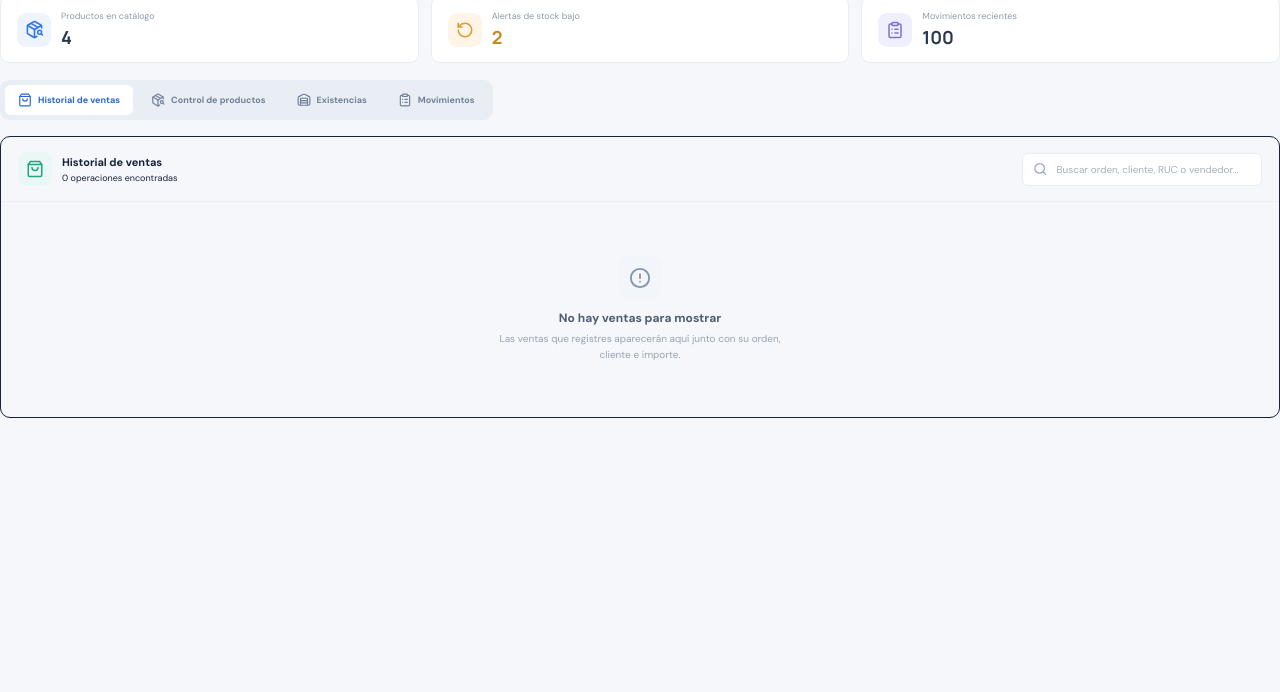
InventoryPage product control › permite cargar páginas anteriores del historial de movimientos
The width and height of the screenshot is (1280, 692).
Click the tab "Control de productos": (208, 100) x1=138 y1=85 x2=278 y2=115
(page scrolled)
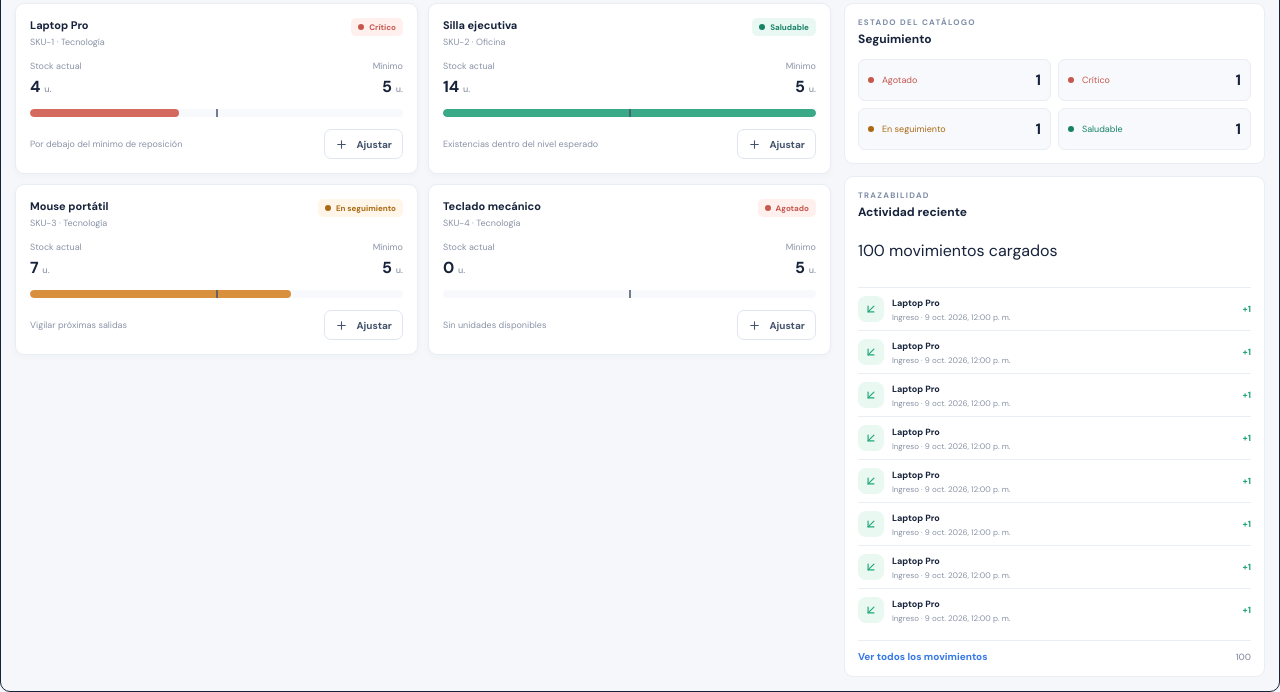
Click the button "Ver todos los movimientos 100": (923, 657) x1=858 y1=640 x2=1251 y2=663
(page scrolled)
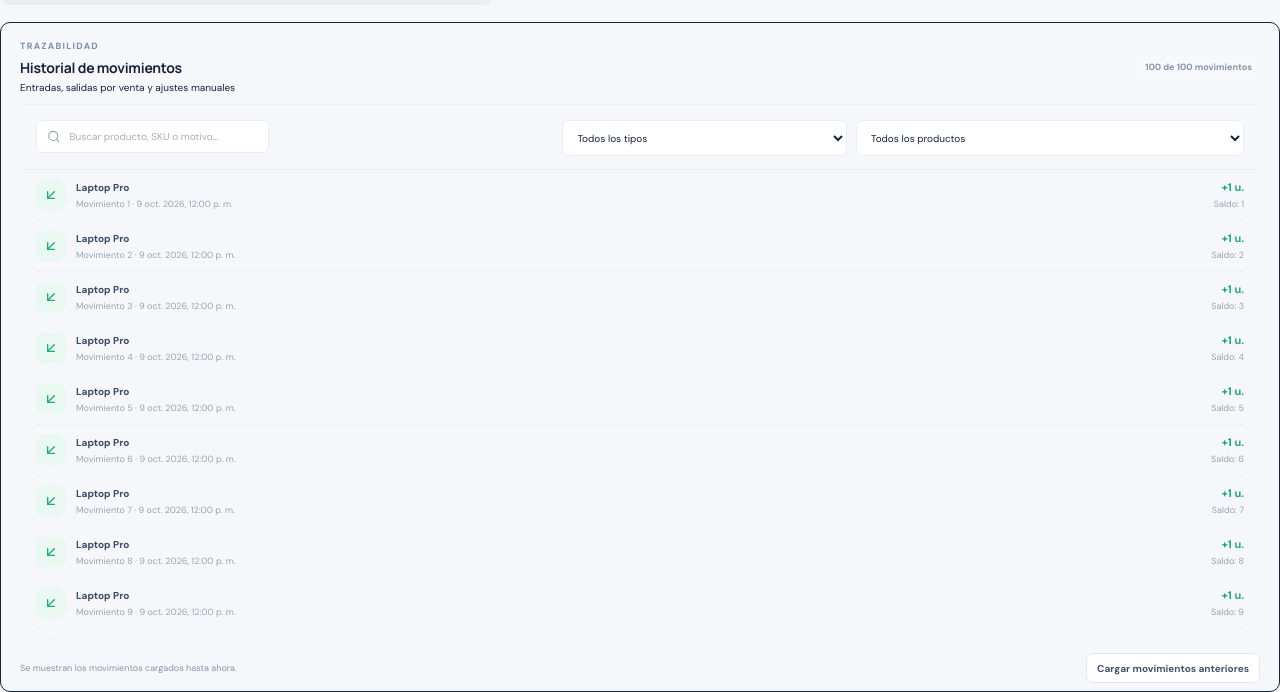
Expected: the text "100 de 100 movimientos" is shown, x1=1137 y1=55 x2=1260 y2=79
Click the button "Cargar movimientos anteriores": (1173, 668) x1=1086 y1=653 x2=1260 y2=683
(page scrolled)
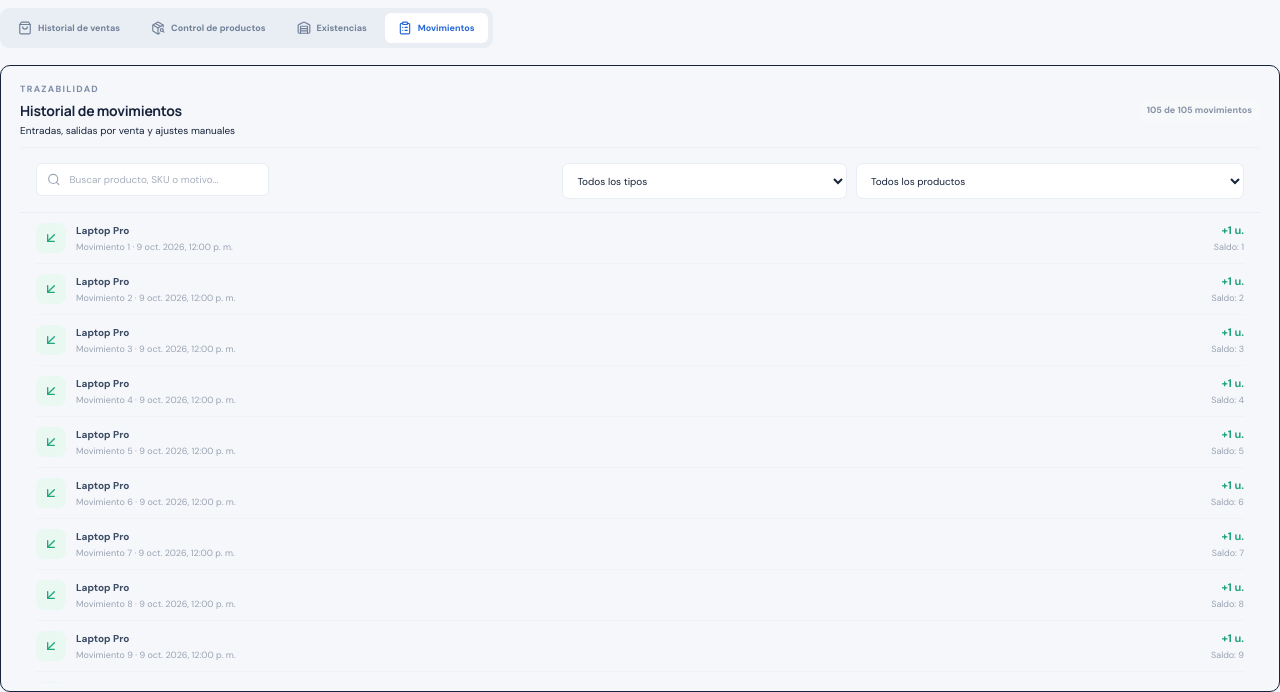
Expected: the text "105 de 105 movimientos" is shown, x1=1139 y1=98 x2=1260 y2=122
Expected: the button "Cargar movimientos anteriores" is gone
